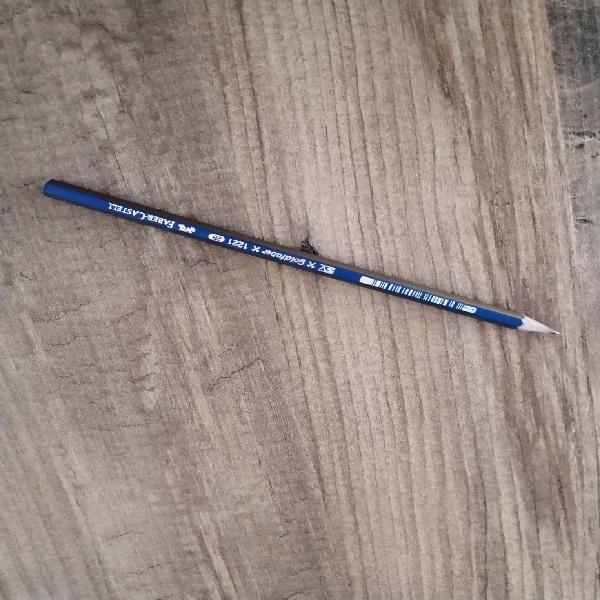pencil: (42, 171, 565, 344)
